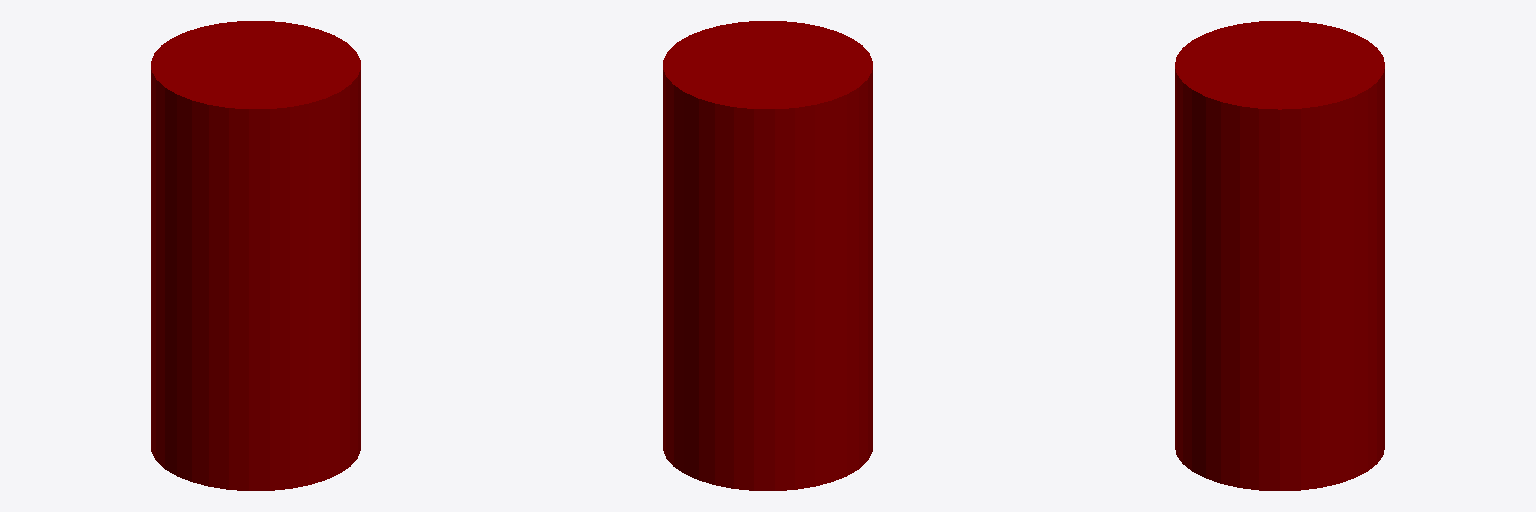
Rendered from cyl.obj.
3 views of the same model, side by side, from view 1: azimuth 30°, elevation 25°; view 2: azimuth 150°, elevation 25°; view 3: azimuth 270°, elevation 25° (orthographic).
Parts seen in each view (by area): view 1: Cylinder; view 2: Cylinder; view 3: Cylinder.
Boxes of the visible parts, x1=… form: Cylinder: x1=151, y1=21, x2=360, y2=490; Cylinder: x1=663, y1=21, x2=872, y2=490; Cylinder: x1=1175, y1=21, x2=1384, y2=490.
Size of the model in its own units: 2 by 4 by 2.